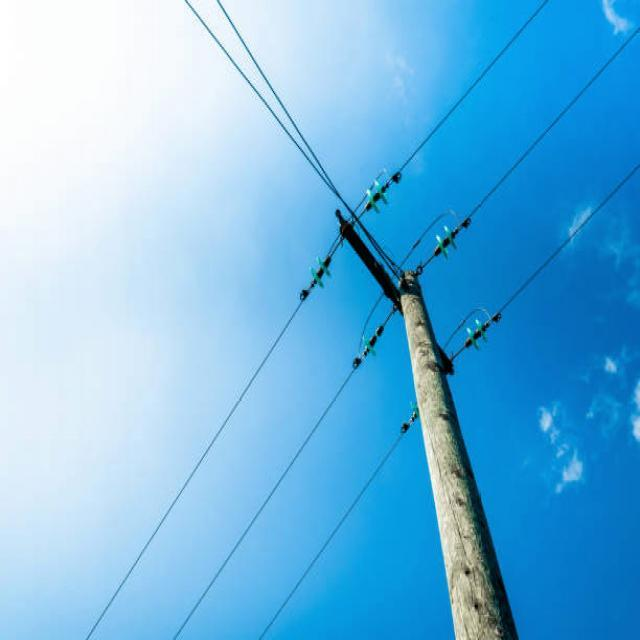crossarm: (338, 209, 414, 309)
pole: (400, 275, 520, 640)
wire: (83, 3, 549, 638), (163, 22, 640, 640), (257, 157, 640, 640), (180, 0, 401, 286), (212, 0, 407, 280)
